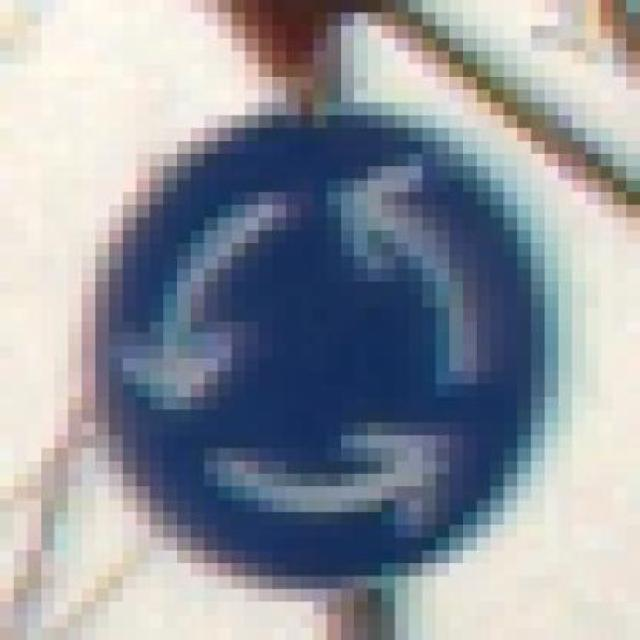Round-About: (41, 115, 613, 614)
